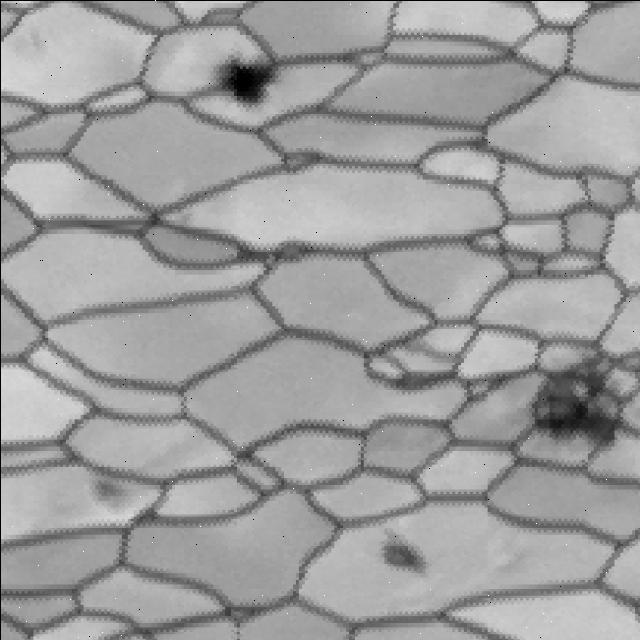good_void: (515, 339, 640, 448), (209, 46, 285, 109), (369, 524, 434, 583), (78, 476, 131, 508)
